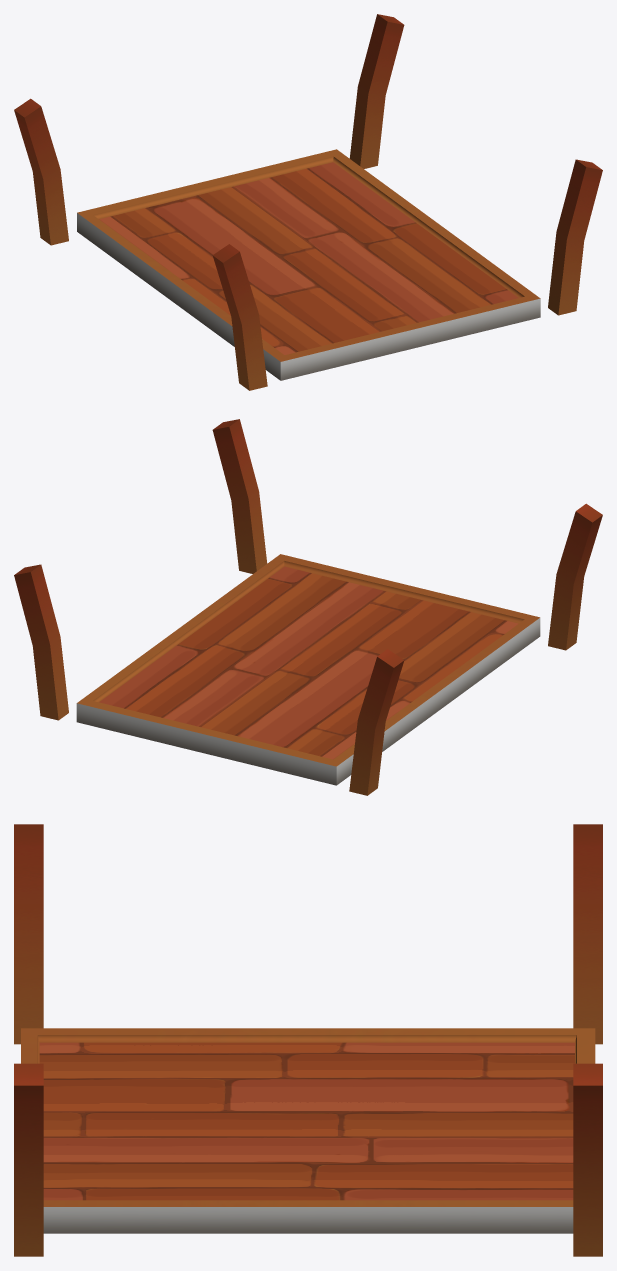
The model's file is VikingHouse_05_M.fbx.
The picture shows the model from 3 angles, top to bottom: view 1: azimuth 30°, elevation 25°; view 2: azimuth 150°, elevation 25°; view 3: azimuth 270°, elevation 25°; orthographic projection. The views are drawn at different scales.
Parts seen in each view (by area): view 1: VikingHouse_05_M; view 2: VikingHouse_05_M; view 3: VikingHouse_05_M.
Boxes of the visible parts, x1=… form: VikingHouse_05_M: x1=14, y1=14, x2=602, y2=390; VikingHouse_05_M: x1=14, y1=419, x2=602, y2=795; VikingHouse_05_M: x1=14, y1=824, x2=602, y2=1256.
Size of the model in its own units: 523 by 186 by 498.
